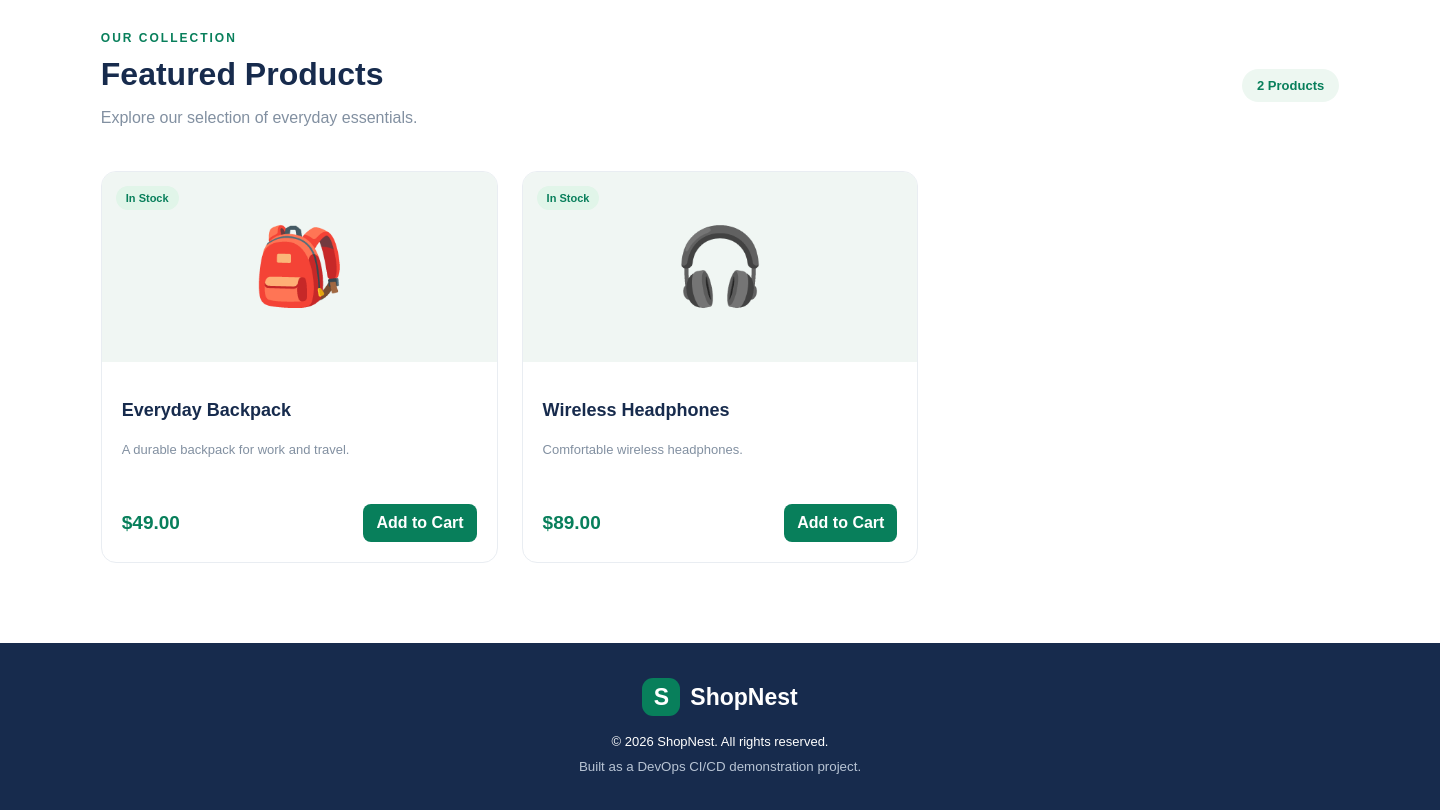
Test: ShopNest frontend › updates the shopping cart when a product is added
The width and height of the screenshot is (1440, 810).
(page scrolled)
Expected: the heading "Everyday Backpack" is shown, [122,400,291,420]
Click the button "Add to Cart" in the row of "$49.00". click: [420, 523]
box: [364,504,477,542]
(page scrolled)
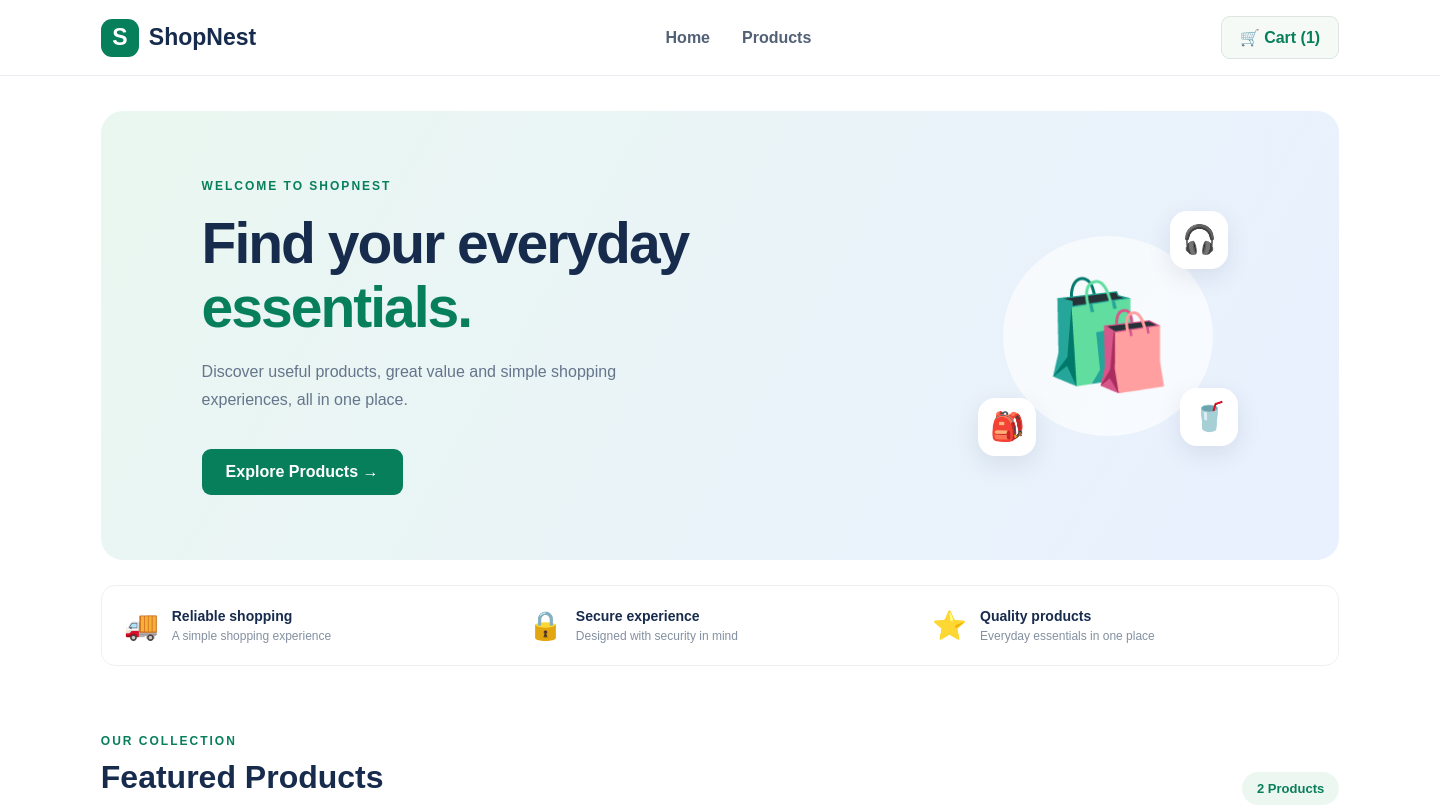
Expected: the button with aria-label "Shopping cart, 1 items" is shown, [1221,16,1339,59]
